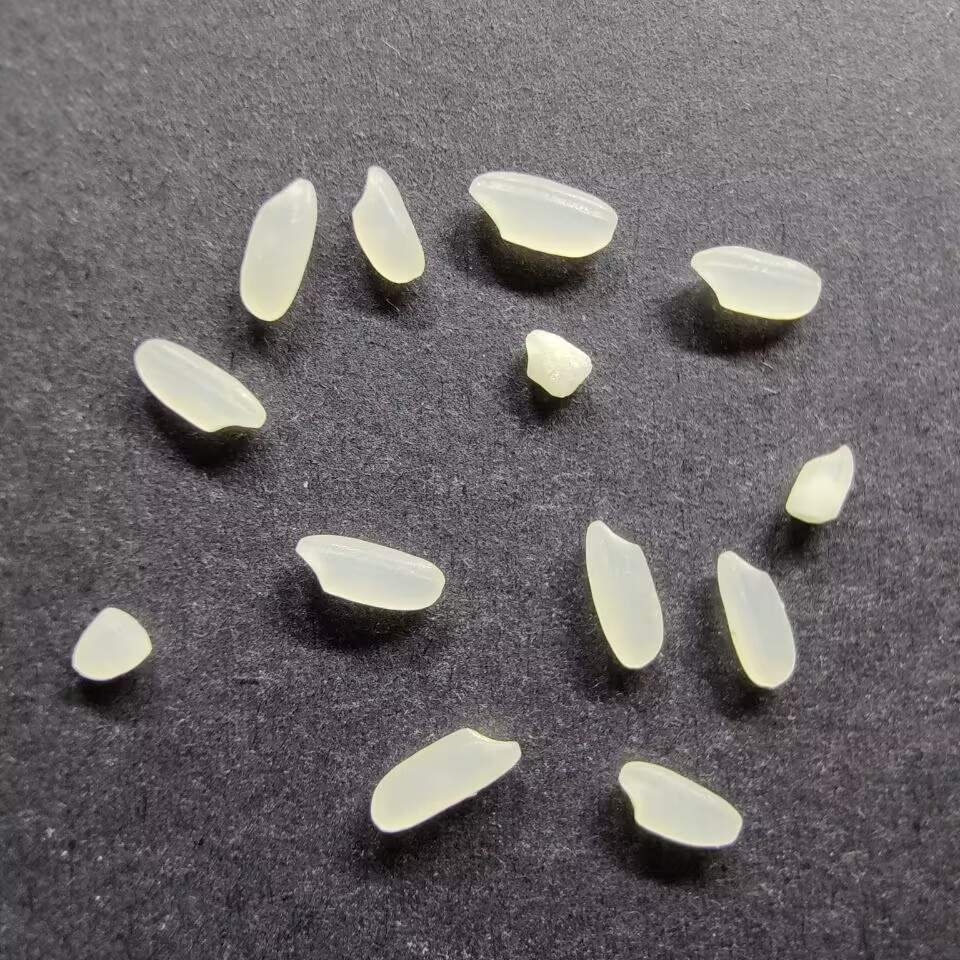broken: (69, 604, 152, 683), (784, 443, 858, 526), (522, 328, 595, 399)
rice: (367, 724, 522, 835), (466, 169, 617, 259), (131, 336, 269, 433), (582, 517, 666, 671), (293, 531, 445, 615), (237, 177, 320, 322), (715, 548, 798, 689), (614, 758, 744, 848), (688, 244, 825, 320), (347, 164, 428, 284)
